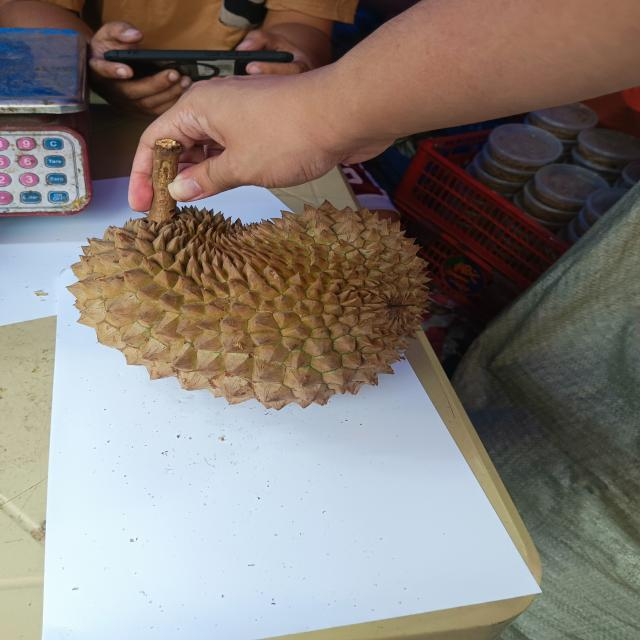mature: (66, 197, 430, 410)
